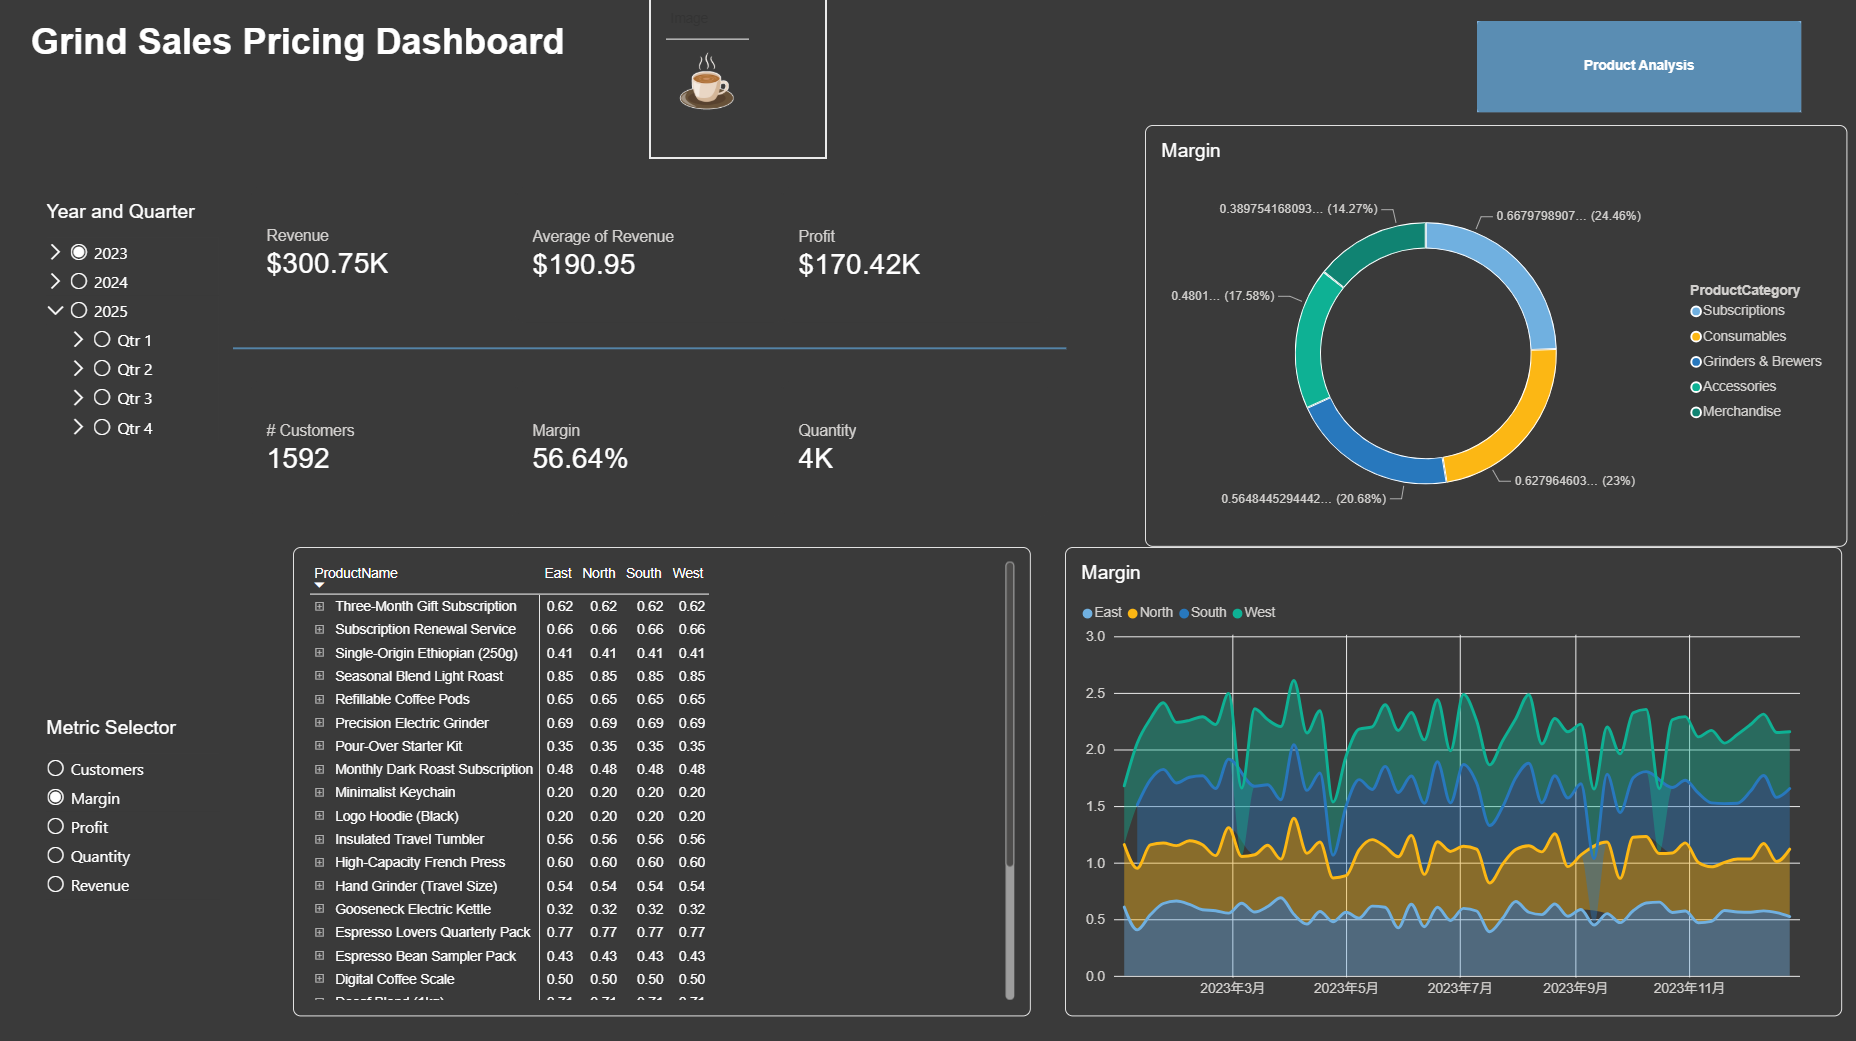

What the dashboard file says about the page in this screenshot:
{"tool":"powerbi","page":{"name":"Main Page","canvas":[1920,1080],"ordinal":0},"visuals":[{"type":"donutChart","fields":{"Category":["Query.ProductCategory"],"Y":["Query.KPI"]},"box":[1181.5,137,723.5,434.5],"z":0},{"type":"stackedAreaChart","fields":{"Category":["Query.Week_Date"],"Series":["Query.Region"],"Y":["Query.KPI"]},"box":[1100.2,571.5,800.5,483.7],"z":1000},{"type":"pivotTable","fields":{"Columns":["Query.Region"],"Rows":["Query.ProductName","Query.OrderDate"],"Values":["Query.KPI"]},"box":[303.9,571.5,759.9,483.7],"z":2000},{"type":"cardVisual","fields":{"Data":["Sum(Query.Revenue)"]},"box":[261.1,199.1,274,139.1],"z":3000},{"type":"cardVisual","fields":{"Data":["Avg(Query.Revenue)"]},"box":[535.1,199.1,273,140],"z":4000},{"type":"cardVisual","fields":{"Data":["Sum(Query.Profit)"]},"box":[809.1,199.1,273,140],"z":5000},{"type":"cardVisual","fields":{"Data":["CountNonNull(Query.CustomerID)"]},"box":[261.1,400.3,273,140],"z":6000},{"type":"cardVisual","fields":{"Data":["Query.Margin"]},"box":[535.1,400.3,273,140],"z":7000},{"type":"cardVisual","fields":{"Data":["Sum(Query.Quantity)"]},"box":[809.1,400.3,273,140],"z":8000},{"type":"shape","box":[244,301.8,858.3,126.3],"z":9000},{"type":"listSlicer","fields":{"Values":["Query.OrderDate.Variation.Date Hierarchy.Year","Query.OrderDate.Variation.Date Hierarchy.Quarter","Query.OrderDate.Variation.Date Hierarchy.Month","Query.OrderDate.Variation.Date Hierarchy.Day"]},"box":[34.2,199.1,209.8,344.6],"z":10000},{"type":"listSlicer","fields":{"Values":["Metric Selector.Metric Selector"]},"box":[34.2,732,210.1,323.4],"z":11000},{"type":"tableEx","fields":{"Values":["Image.Image"]},"box":[672.1,0,181.9,171.2],"z":12000},{"type":"textbox","box":[35,28,580,55],"z":13000},{"type":"actionButton","box":[1524,27.8,333.9,94.2],"z":14000},{"type":"textbox","box":[34.2,83.5,398.1,74.9],"z":14001}]}

Visuals, with their boxes in screenshot pixels (x1, y1, x2, y2), scaled from the page's 1920x1080 canvas onto the 1856x1041 screenshot:
donutChart - Query.ProductCategory x Query.KPI: 1142 132 1842 551
stackedAreaChart - Query.Week_Date x Query.Region: 1064 551 1837 1017
pivotTable - Query.Region x Query.ProductName: 294 551 1028 1017
cardVisual - Sum(Query.Revenue): 252 192 517 326
cardVisual - Avg(Query.Revenue): 517 192 781 327
cardVisual - Sum(Query.Profit): 782 192 1046 327
cardVisual - CountNonNull(Query.CustomerID): 252 386 516 521
cardVisual - Query.Margin: 517 386 781 521
cardVisual - Sum(Query.Quantity): 782 386 1046 521
shape: 236 291 1066 413
listSlicer - Query.OrderDate.Variation.Date Hierarchy.Year x Query.OrderDate.Variation.Date Hierarchy.Quarter: 33 192 236 524
listSlicer - Metric Selector.Metric Selector: 33 706 236 1017
tableEx - Image.Image: 650 0 826 165
textbox: 34 27 594 80
actionButton: 1473 27 1796 118
textbox: 33 80 418 153
